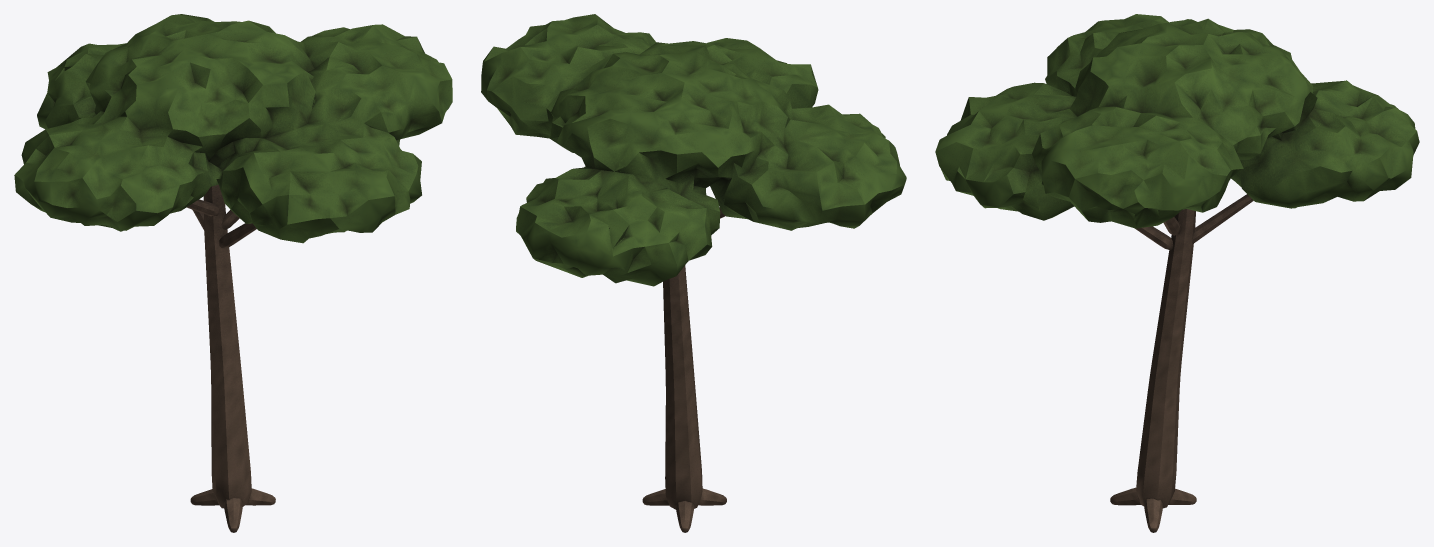
The model's file is costa_pinheiro_a.glb.
3 renders of one model, left to right at view 1: azimuth 30°, elevation 25°; view 2: azimuth 150°, elevation 25°; view 3: azimuth 270°, elevation 25°, orthographic.
Parts seen in each view (by area): view 1: costa_pinheiro_a; view 2: costa_pinheiro_a; view 3: costa_pinheiro_a.
Part boxes in pixels (x1,y1,x2,y2): costa_pinheiro_a: (14, 14, 452, 532); costa_pinheiro_a: (481, 14, 906, 532); costa_pinheiro_a: (935, 14, 1419, 532).
Size of the model in its own units: 5.71 by 6.2 by 5.8.
Materials: 1 (1 with a texture image).
